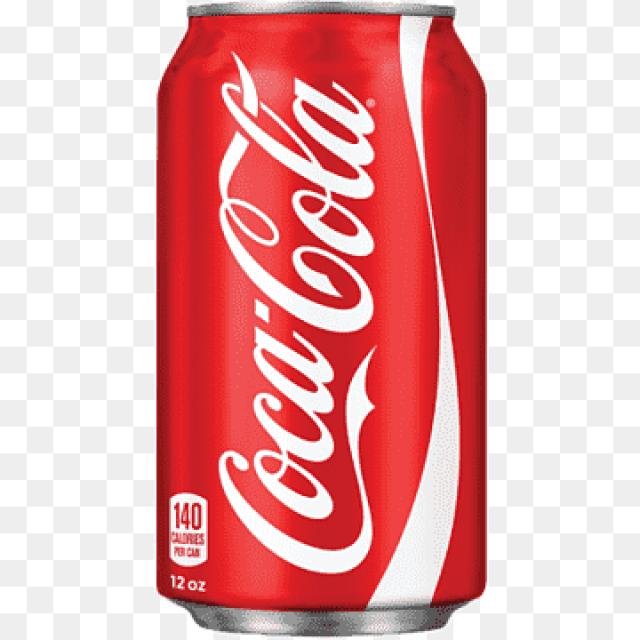cocacola: (149, 0, 502, 631)
